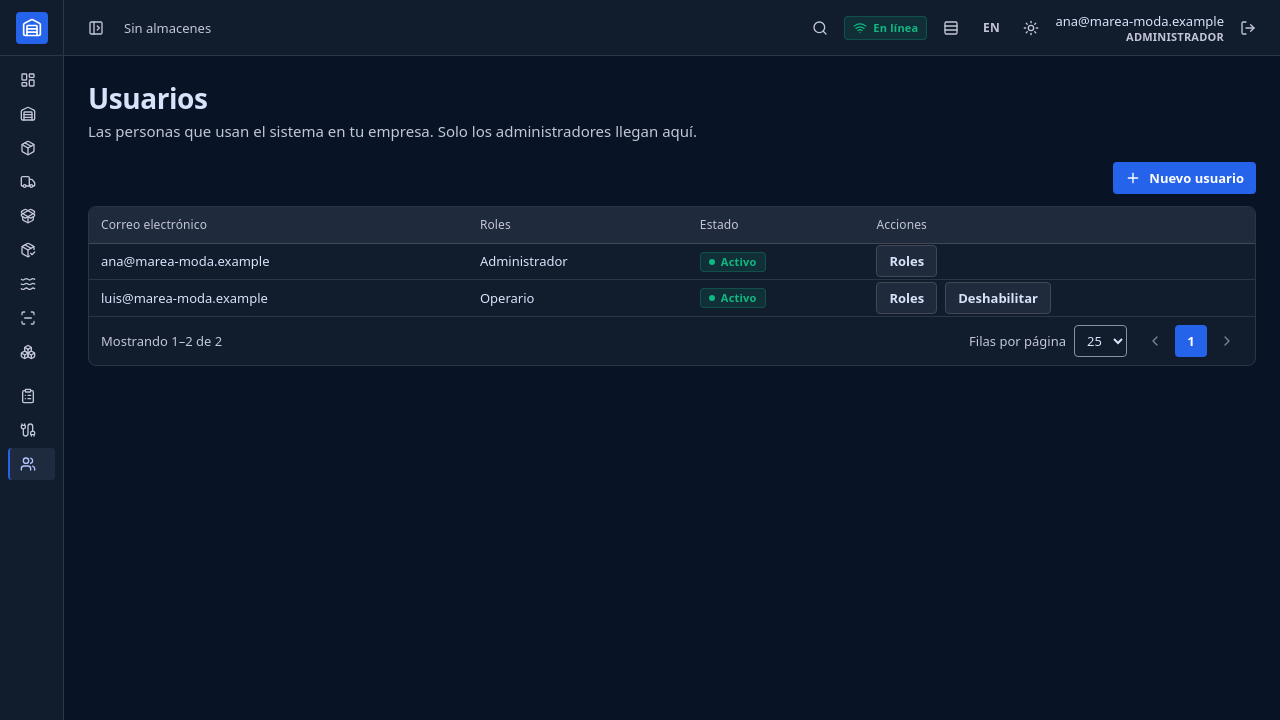
Test: the users › replaces the roles of a user
Click the button with aria-label "Cambiar los roles de luis@marea-moda.example" at (907, 298), box [876,282,937,314]
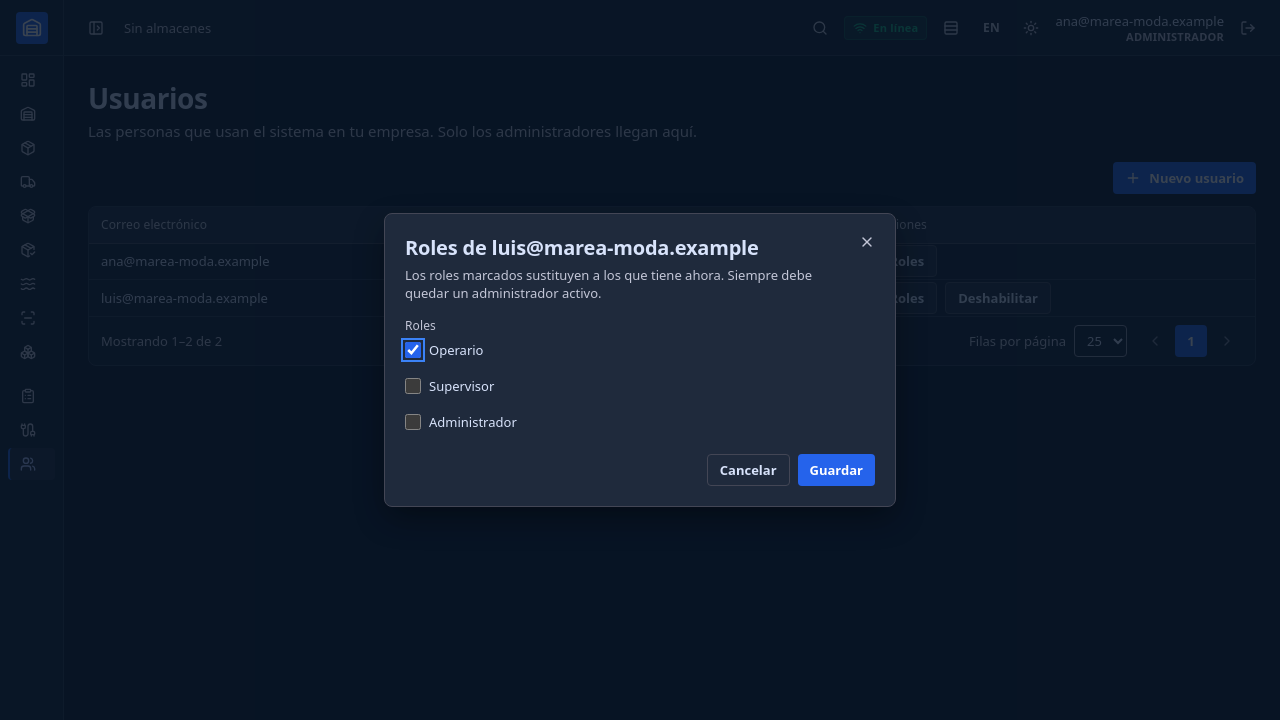
Result: the checkbox labelled "Operario" is checked at [405,342,421,358]
Click the checkbox labelled "Supervisor" at (413, 386), box [405,378,421,394]
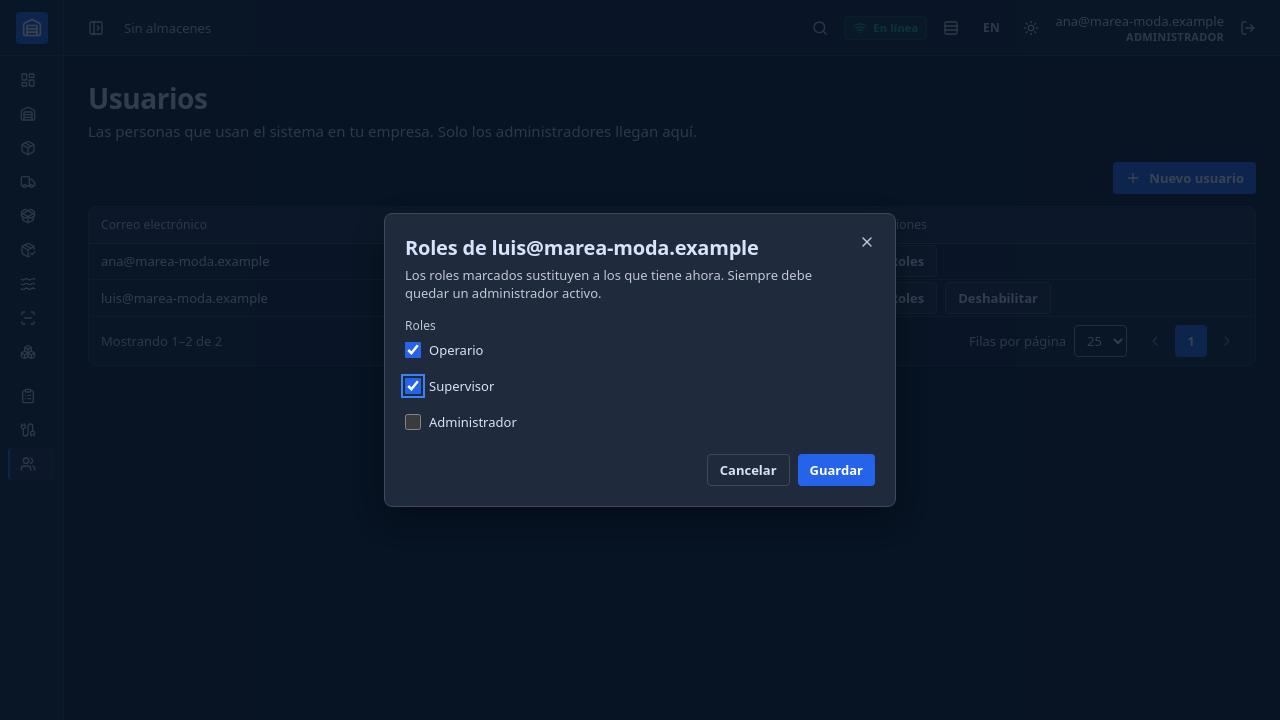
Click the button "Guardar" at (836, 470), box [798,454,875,486]
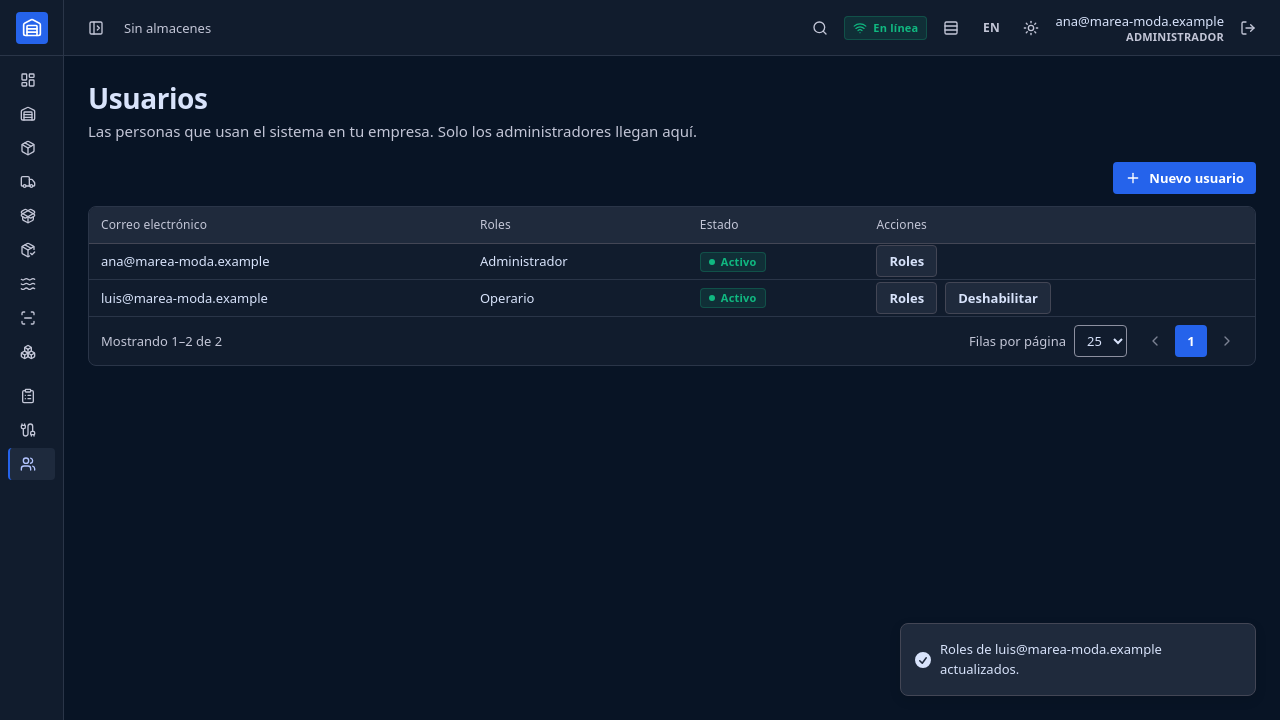
Result: the dialog is gone
